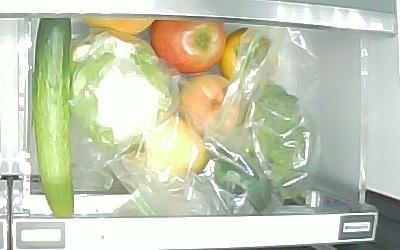apple: (151, 18, 227, 75)
broccoli_vinyl: (236, 85, 313, 188)
cucumber: (33, 17, 76, 219)
lettuce: (75, 37, 173, 143)
paprika_vinyl: (140, 117, 211, 181), (213, 155, 271, 212)
peach: (180, 74, 240, 143)
persimmon_vinyl: (222, 28, 282, 84)
